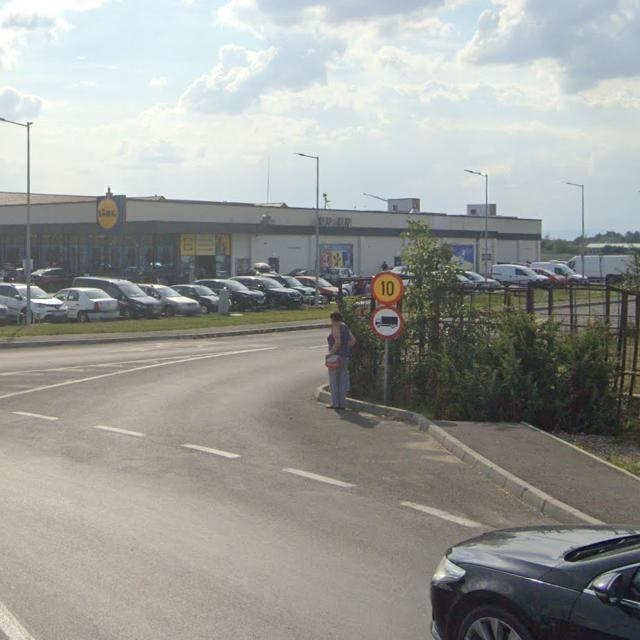forb_speed_over_10: (371, 271, 403, 306)
